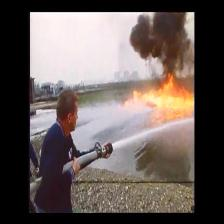fire: (139, 81, 190, 107)
smoke: (132, 16, 191, 62)
